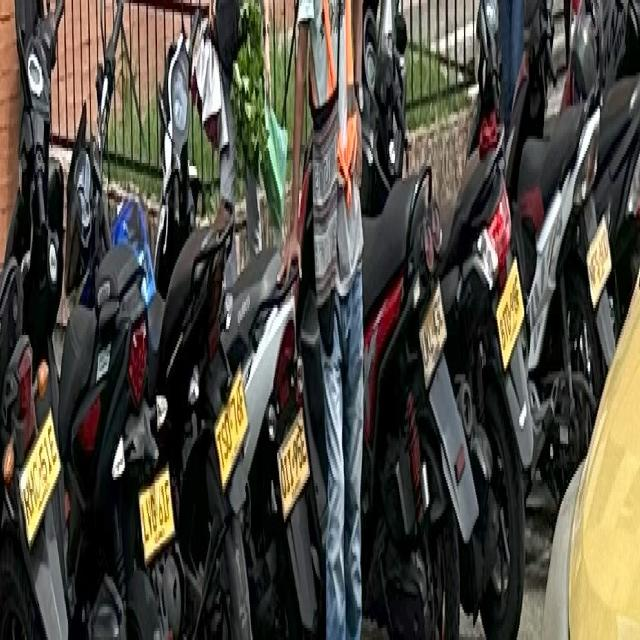number plate: (19, 408, 59, 540), (214, 365, 247, 486), (277, 405, 308, 516), (138, 465, 174, 558), (495, 257, 523, 365), (419, 278, 445, 383), (586, 211, 610, 302)
